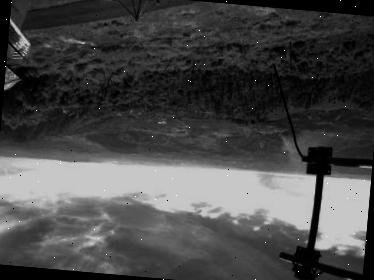smoke: (275, 129, 311, 171)
